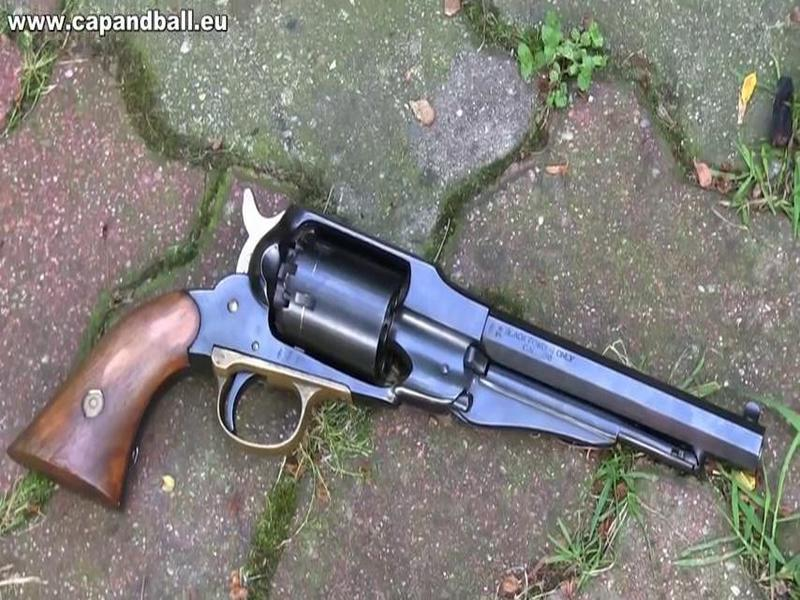Revolver: (93, 165, 777, 532)
